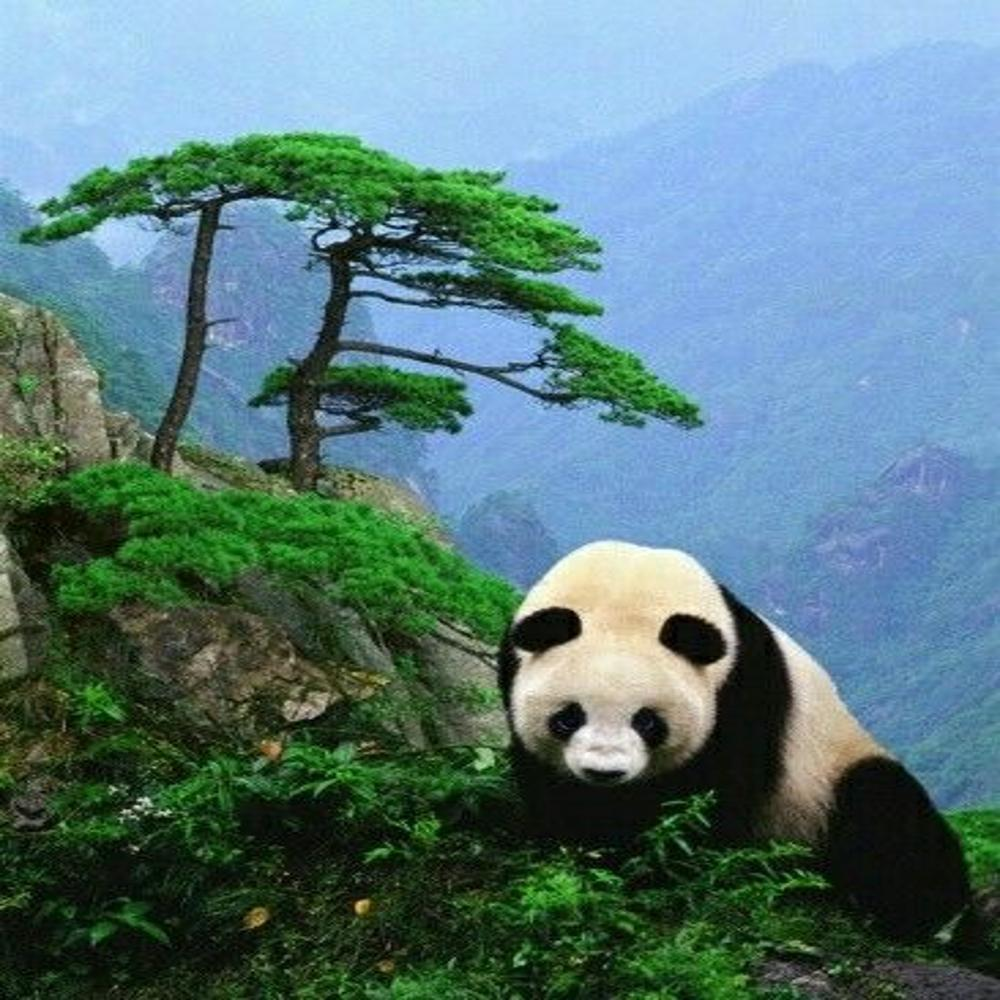panda: (490, 528, 986, 963)
